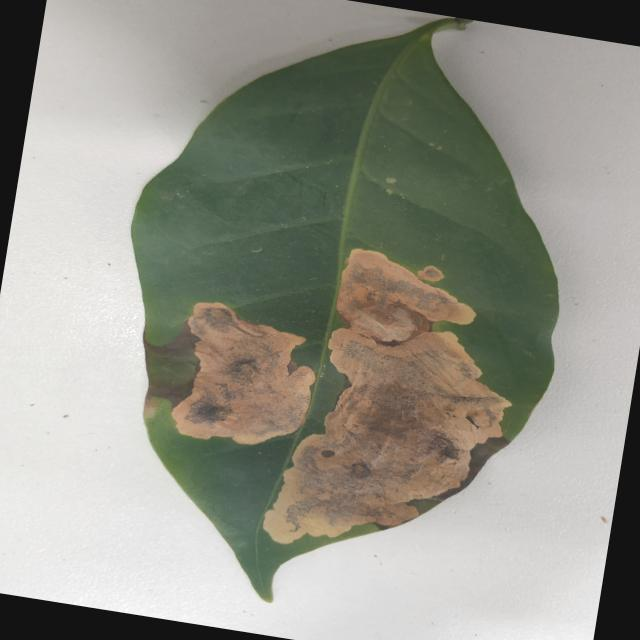KaratDaunKopi: (265, 250, 511, 544), (173, 303, 315, 444), (144, 321, 199, 405), (417, 266, 444, 282), (143, 397, 160, 421)
